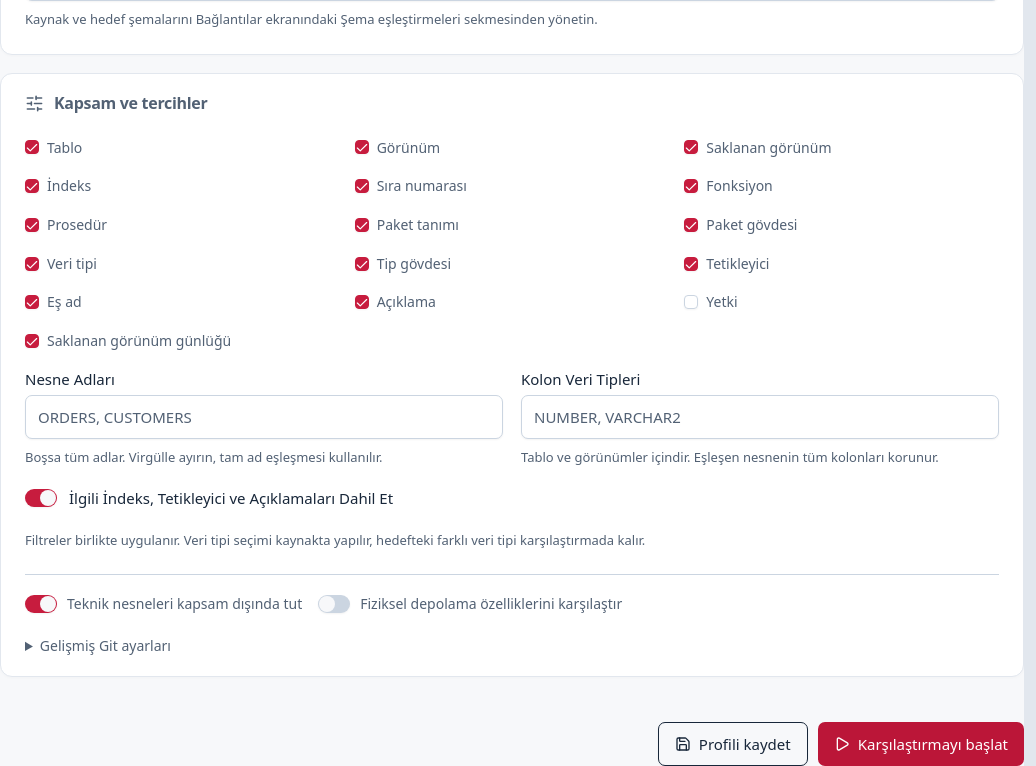
Test: Comparison form › requires a saved mapping and shows Git settings only for a Git source
(page scrolled)
Click the button "Profili kaydet" at (733,744), box top-left (658, 722), bottom-right (808, 765)
(page scrolled)
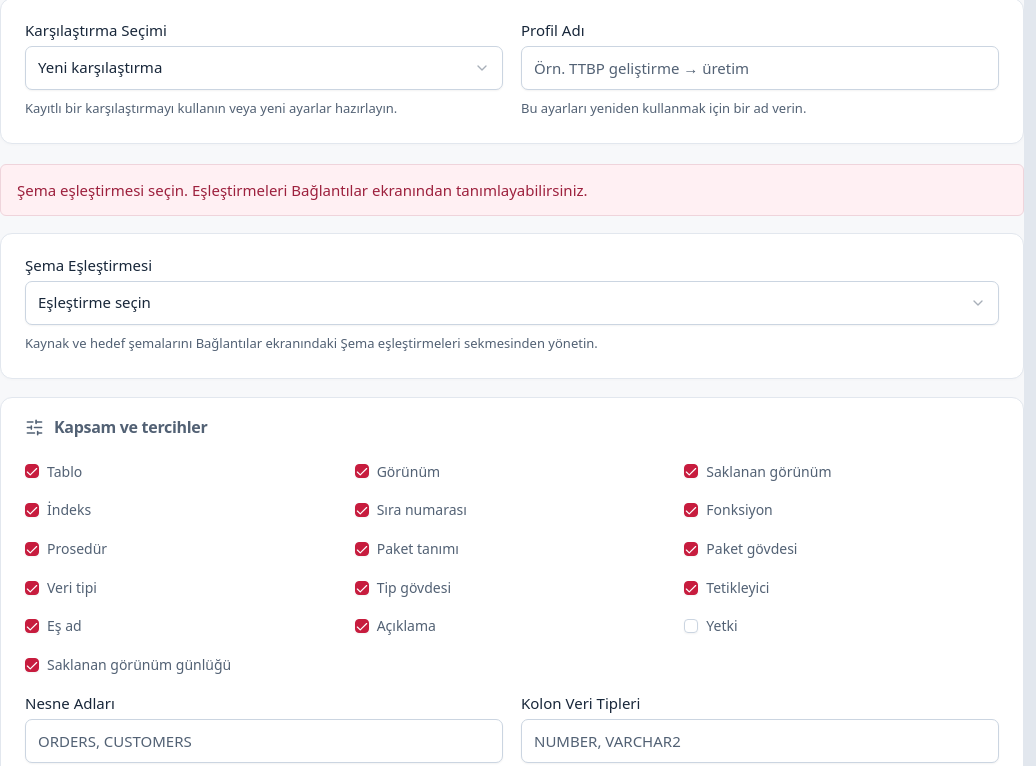
Now the message shows "Şema eşleştirmesi seçin", box top-left (17, 180), bottom-right (588, 200)
Click the dropdown named "Şema Eşleştirmesi" at (94,302), box top-left (25, 281), bottom-right (999, 325)
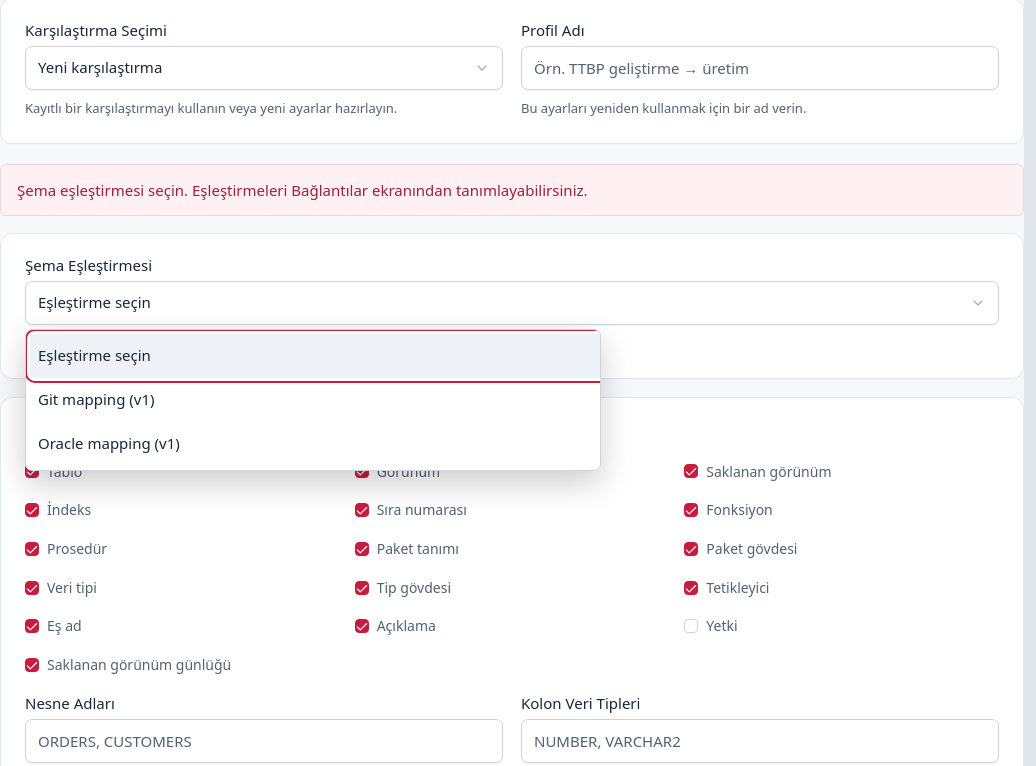
Click the option "Git mapping (v1)" at (96,399), box top-left (38, 389), bottom-right (154, 409)
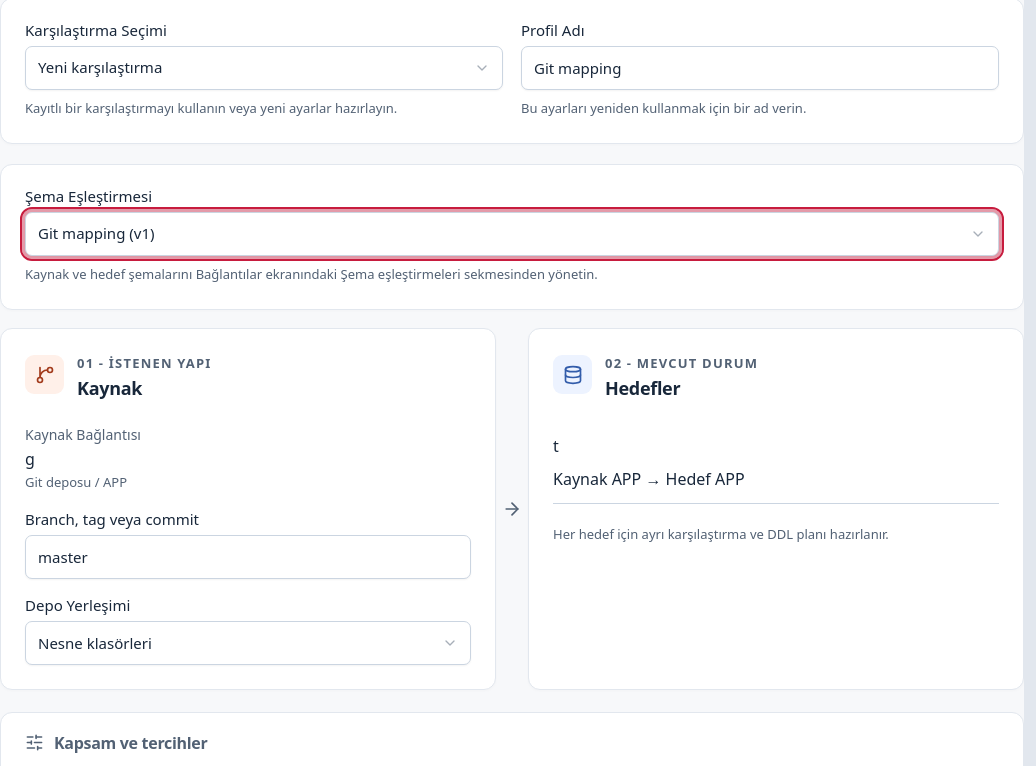
Now the field labelled "Branch, tag veya commit" is shown, box top-left (25, 535), bottom-right (471, 579)
Click the dropdown named "Şema Eşleştirmesi" at (82,233), box top-left (25, 212), bottom-right (999, 256)
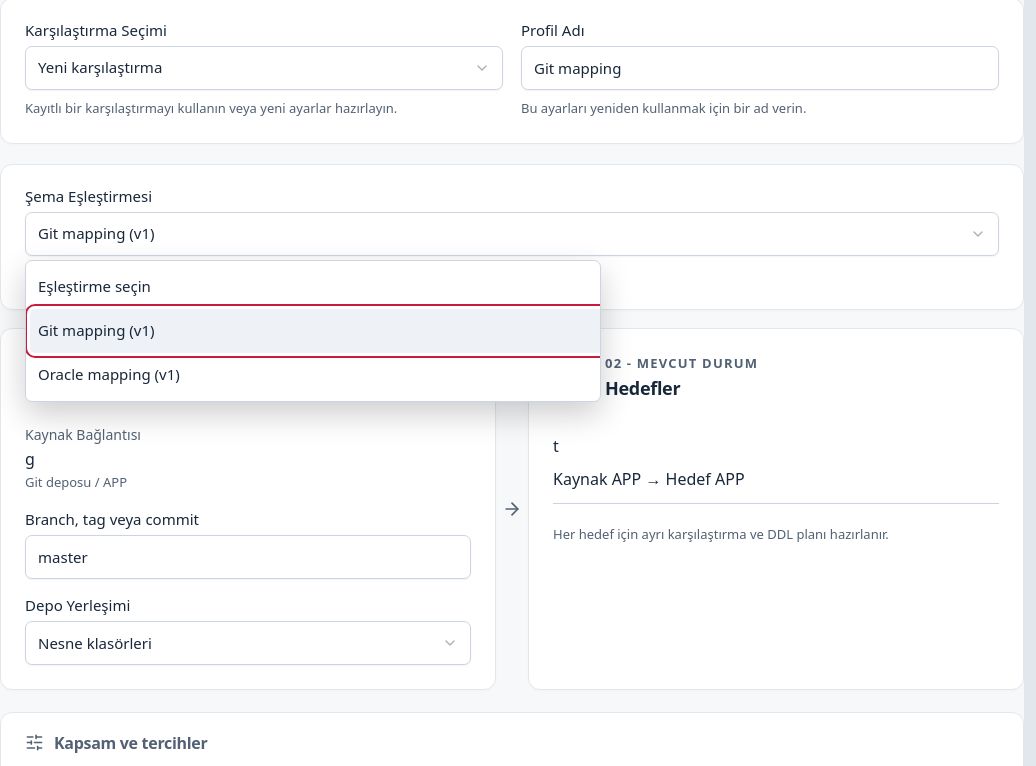
Click the option "Oracle mapping (v1)" at (109,374), box top-left (38, 364), bottom-right (180, 384)
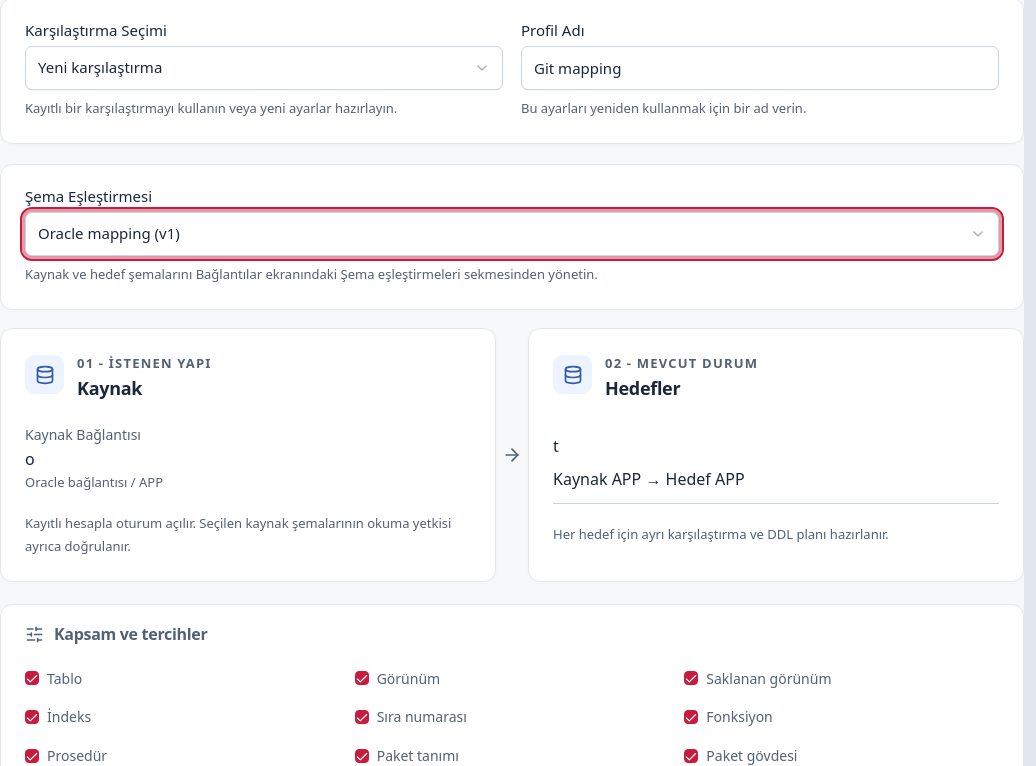
Now the label labelled "Branch, tag veya commit" is gone
